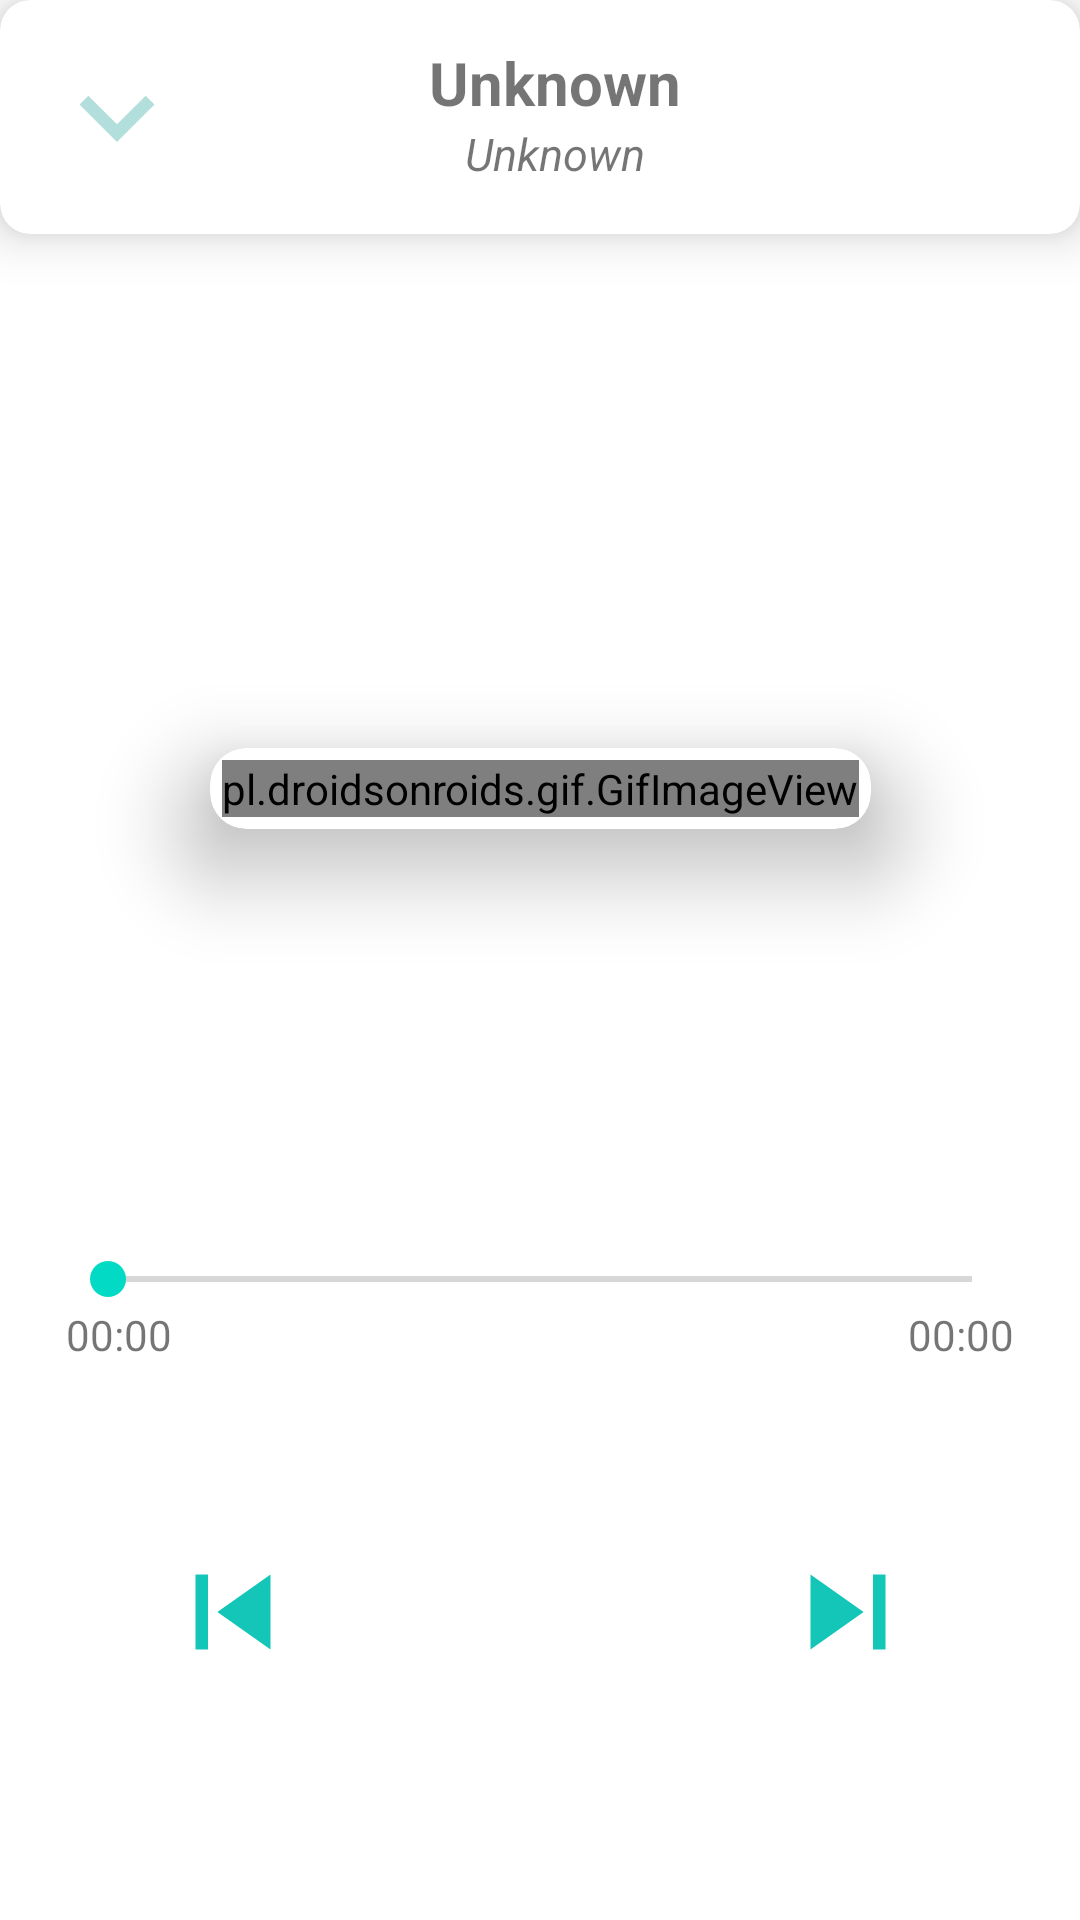

Icons on this 1080×1920 Android screen, each with its box as (x1, y1, x2, y2):
keyboard arrow down: (80, 96, 154, 142)
skip next: (810, 1574, 886, 1650)
skip previous: (195, 1574, 271, 1650)
